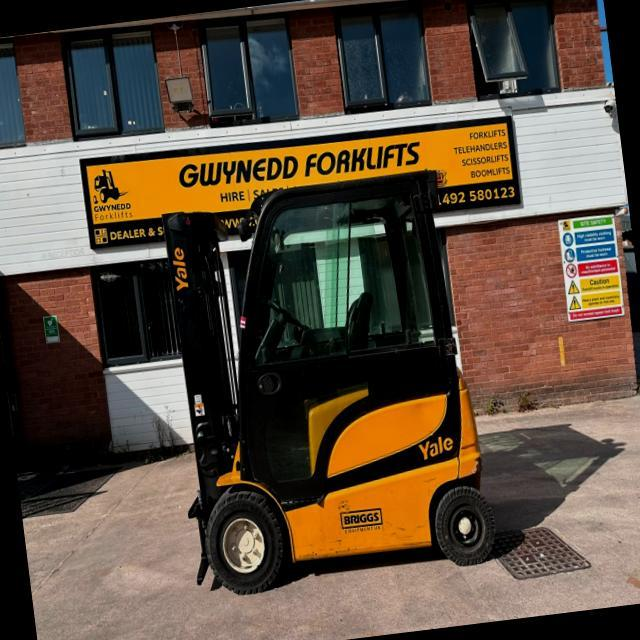forklift: (128, 154, 504, 608)
